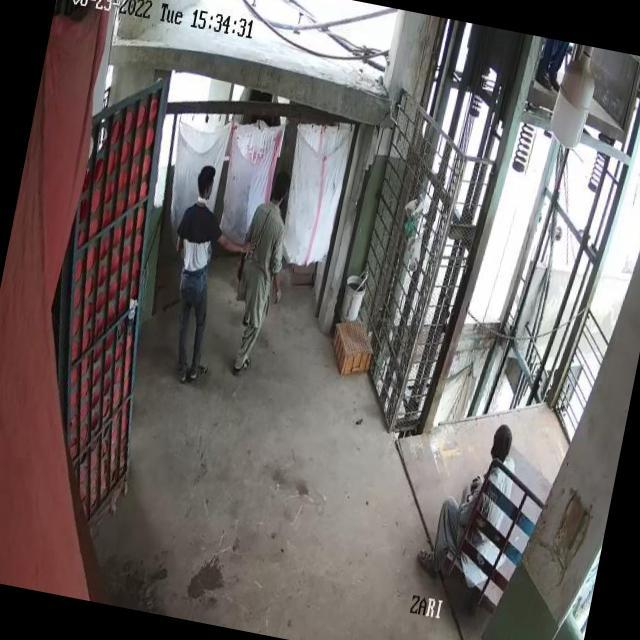person: (148, 162, 238, 388), (428, 422, 526, 590), (220, 175, 298, 376)
